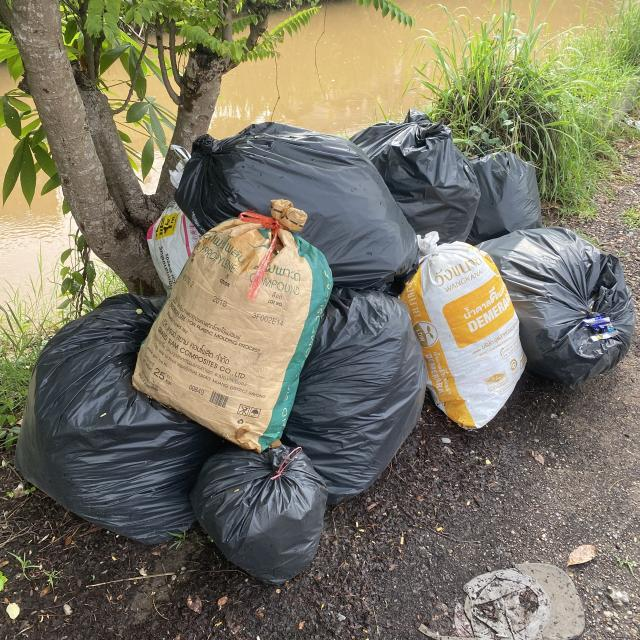Single-layer Plastic: (15, 294, 224, 544), (175, 122, 418, 289), (284, 288, 428, 504), (478, 228, 636, 388), (404, 229, 528, 427), (190, 445, 328, 584), (351, 109, 480, 242), (466, 151, 542, 245)
